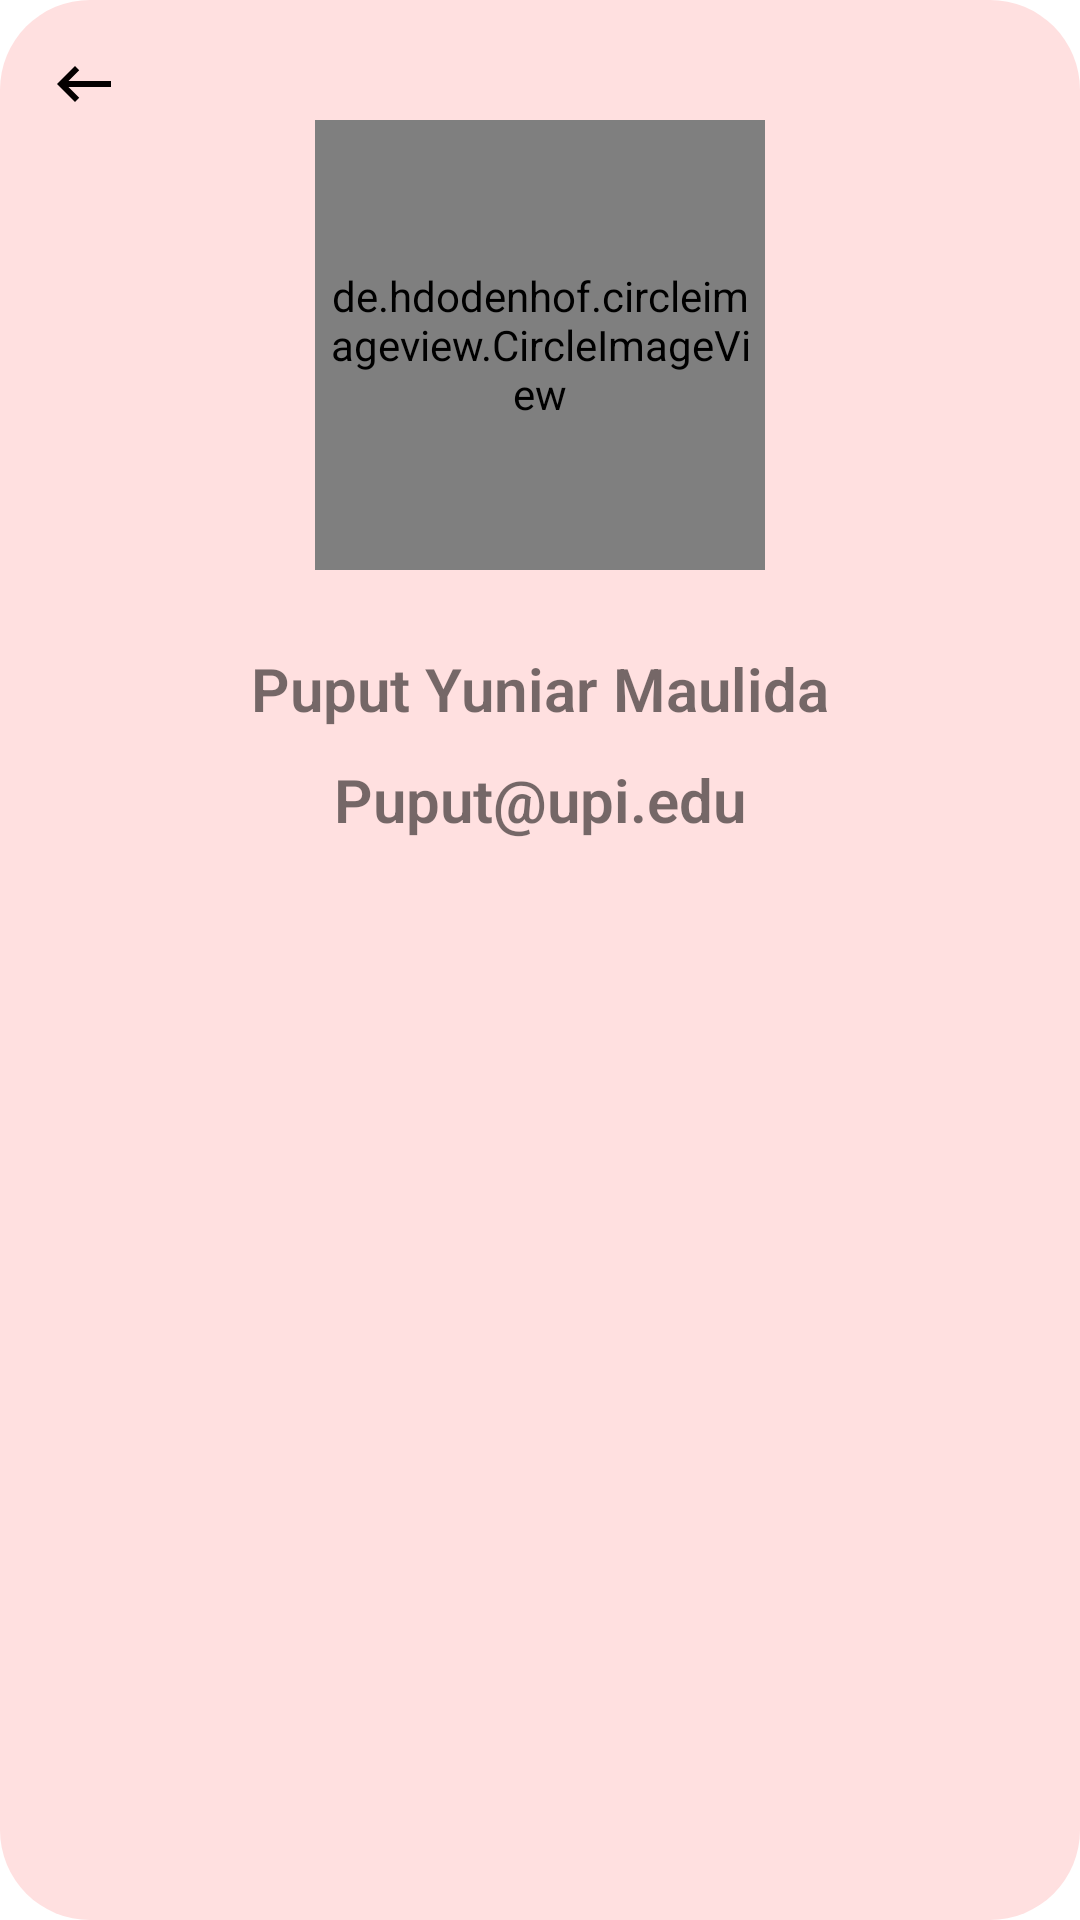

Icons on this 1080x1920 Android screen, each with its box as (x1, y1, x2, y2):
keyboard backspace: (57, 66, 111, 102)
